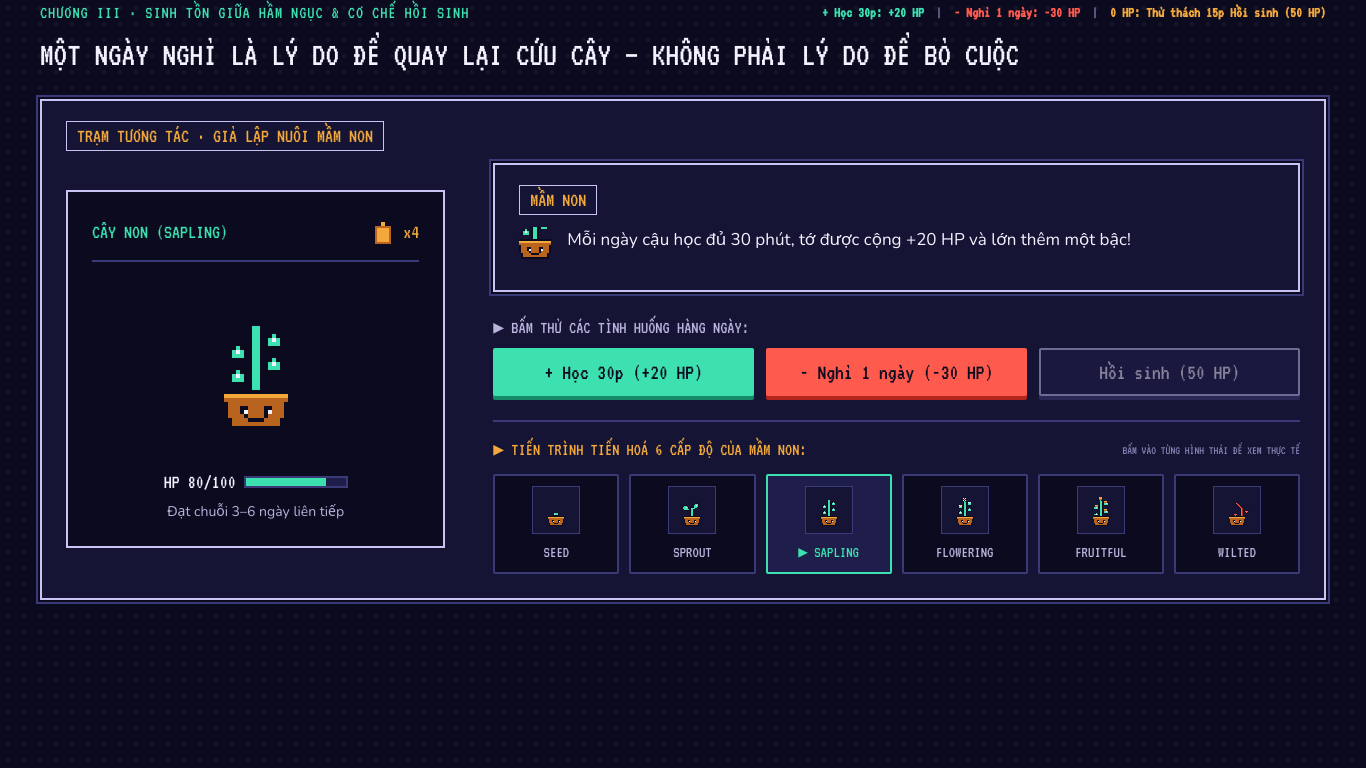
Test: ChapterThreeCompanion › decrements HP (-30 per missed day) down to 0 HP wilted and revives to 50 HP sprout
Click the button "- Nghỉ 1 ngày (-30 HP)".
click(897, 372)  # box [766,348,1027,396]
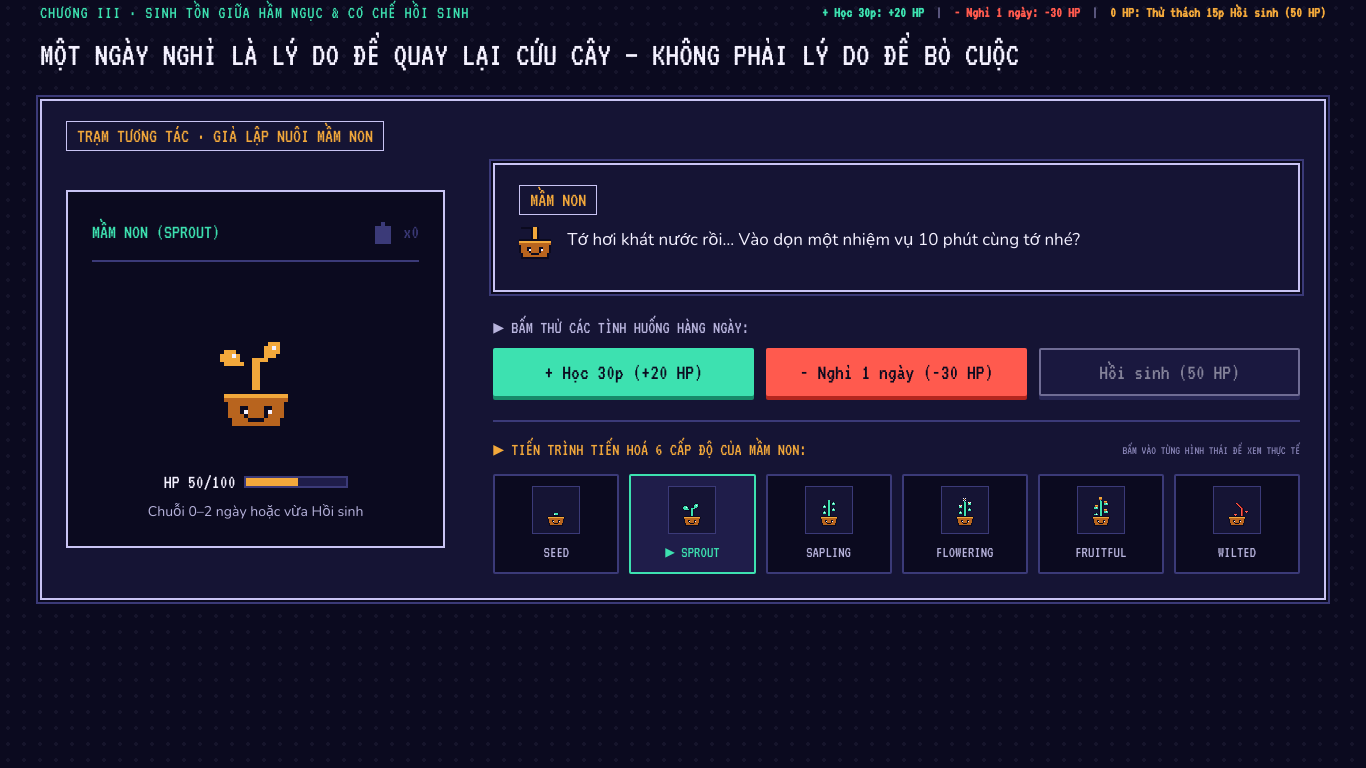
Check: the text "50/100" is shown, box [164,472,236,492]
Check: the text "x0" is shown, box [403,220,419,244]
Click the button "- Nghỉ 1 ngày (-30 HP)".
click(897, 372)  # box [766,348,1027,396]
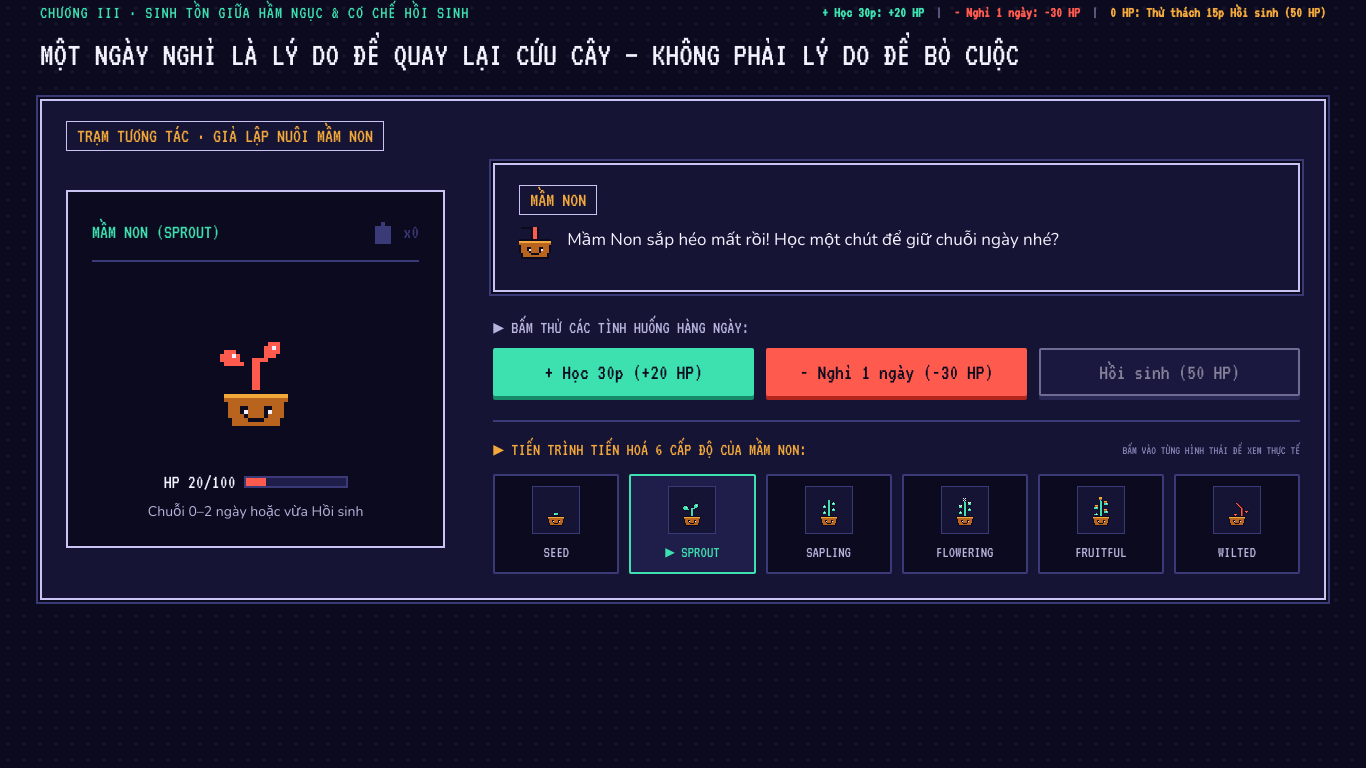
Check: the text "20/100" is shown, box [164,472,236,492]
Click the button "- Nghỉ 1 ngày (-30 HP)".
click(897, 372)  # box [766,348,1027,396]
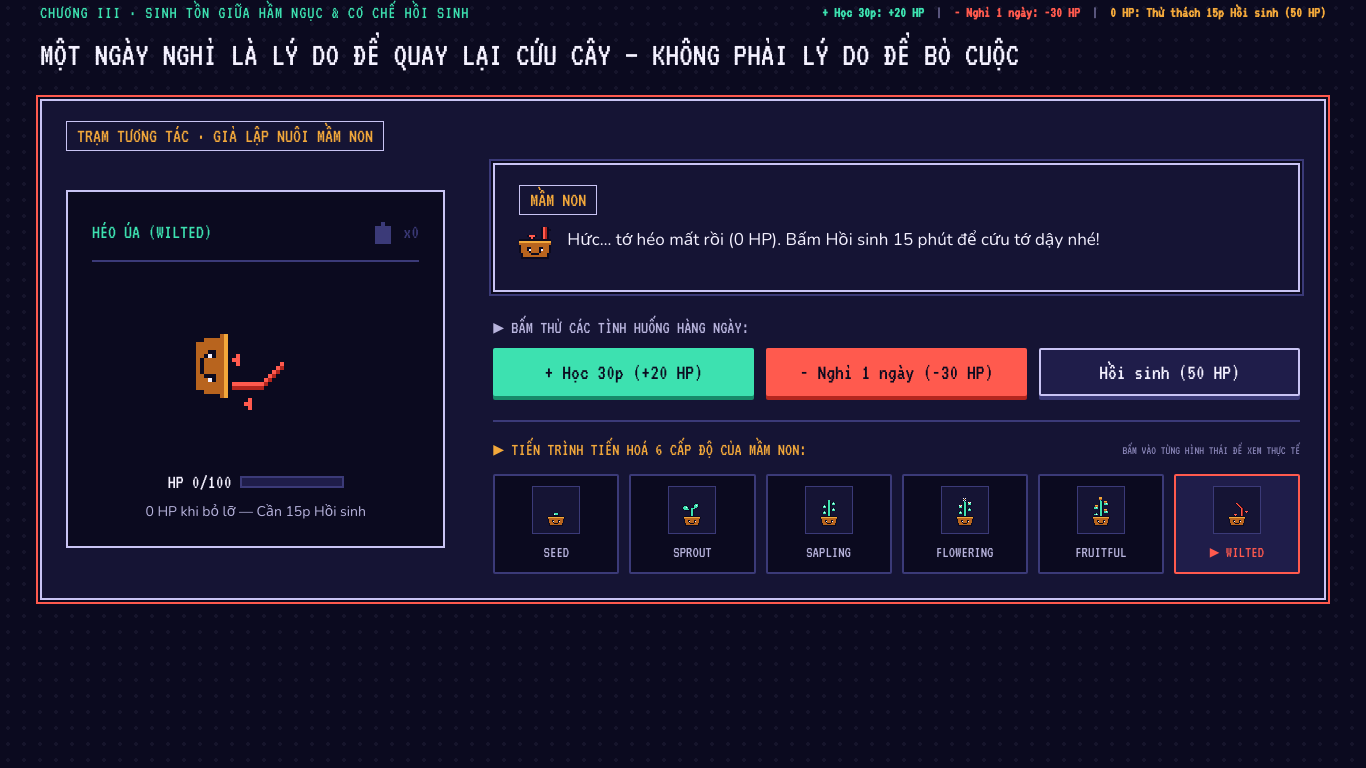
Check: the text "0/100" is shown, box [168,472,232,492]
Check: the text "Héo úa (Wilted)" is shown, box [92,220,212,244]
# Revive button should now be enabled
Click the button "Hồi sinh (50 HP)".
click(1170, 372)  # box [1039,348,1300,396]
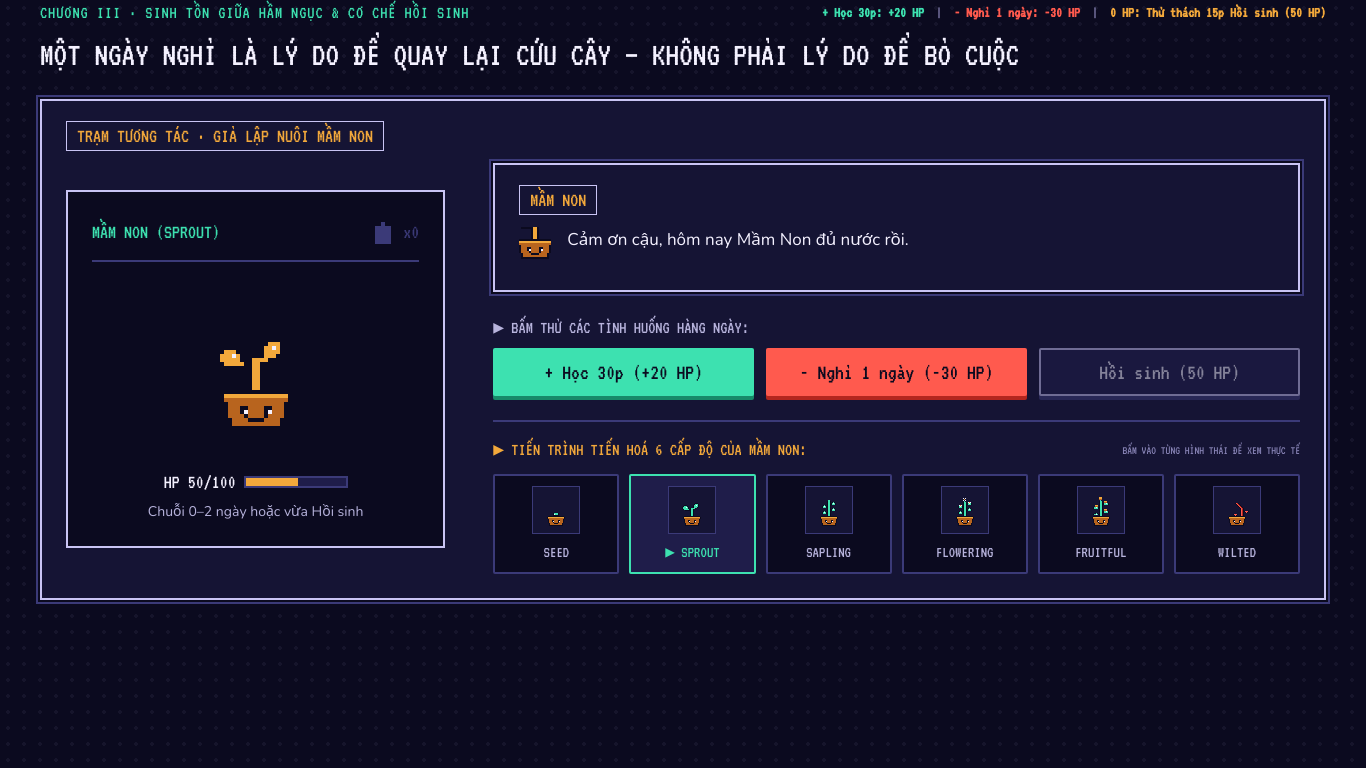
Check: the text "50/100" is shown, box [164,472,236,492]
Check: the text "Mầm non (Sprout)" is shown, box [92,220,220,244]
